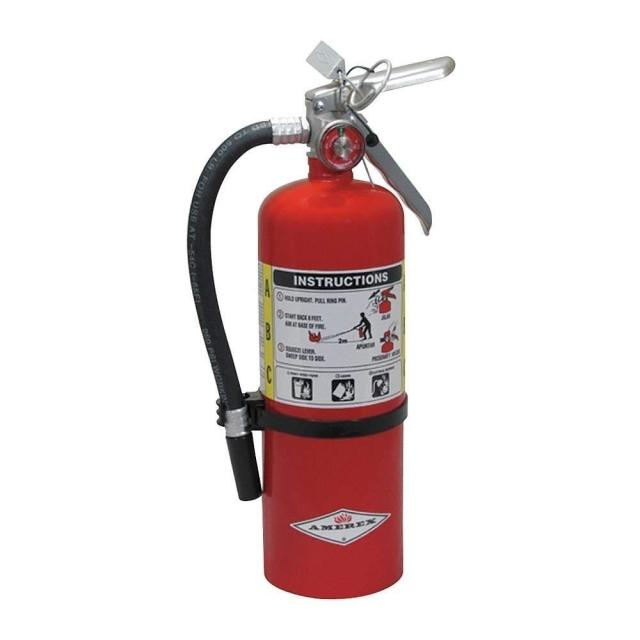fire_extinguisher: (183, 37, 458, 602)
